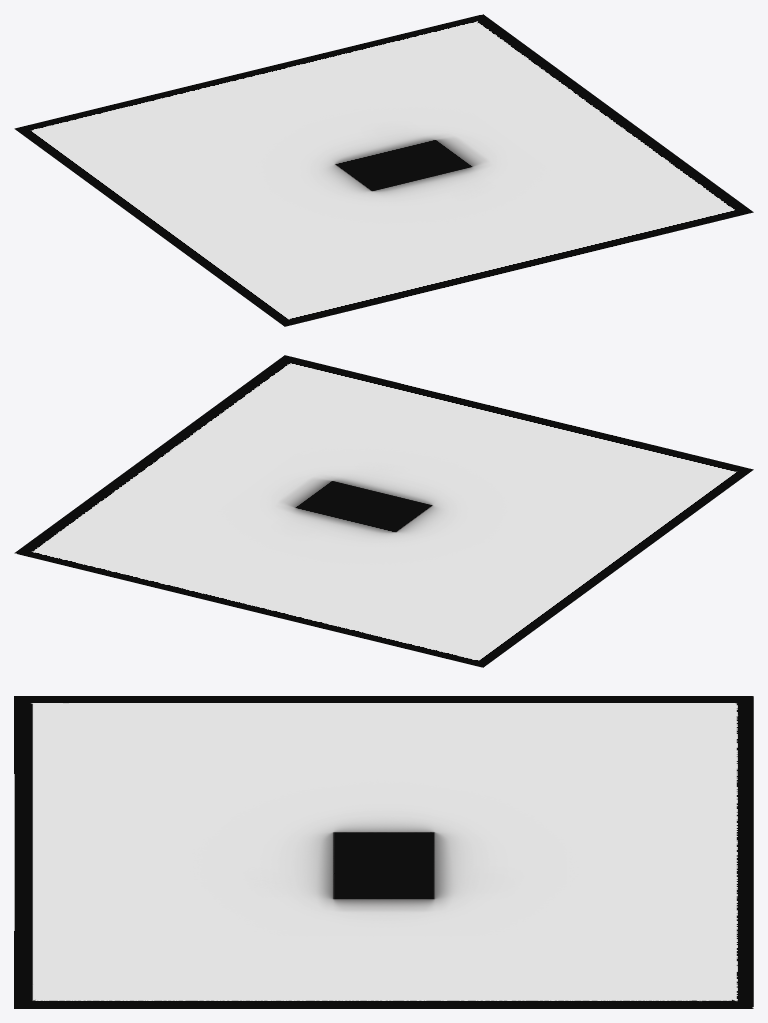
File: groundplane_fluister_top.glb
3 renders of one model, top to bottom at view 1: azimuth 30°, elevation 25°; view 2: azimuth 150°, elevation 25°; view 3: azimuth 270°, elevation 25°, orthographic. The views are drawn at different scales.
Visible parts, largest first — view 1: Plane; view 2: Plane; view 3: Plane.
Part boxes in pixels (<box>): Plane: <box>14,14,753,326</box>; Plane: <box>14,355,753,667</box>; Plane: <box>14,696,753,1008</box>.
Size of the model in its own units: 1 by 0 by 1.
Materials: 1 (1 with a texture image).
